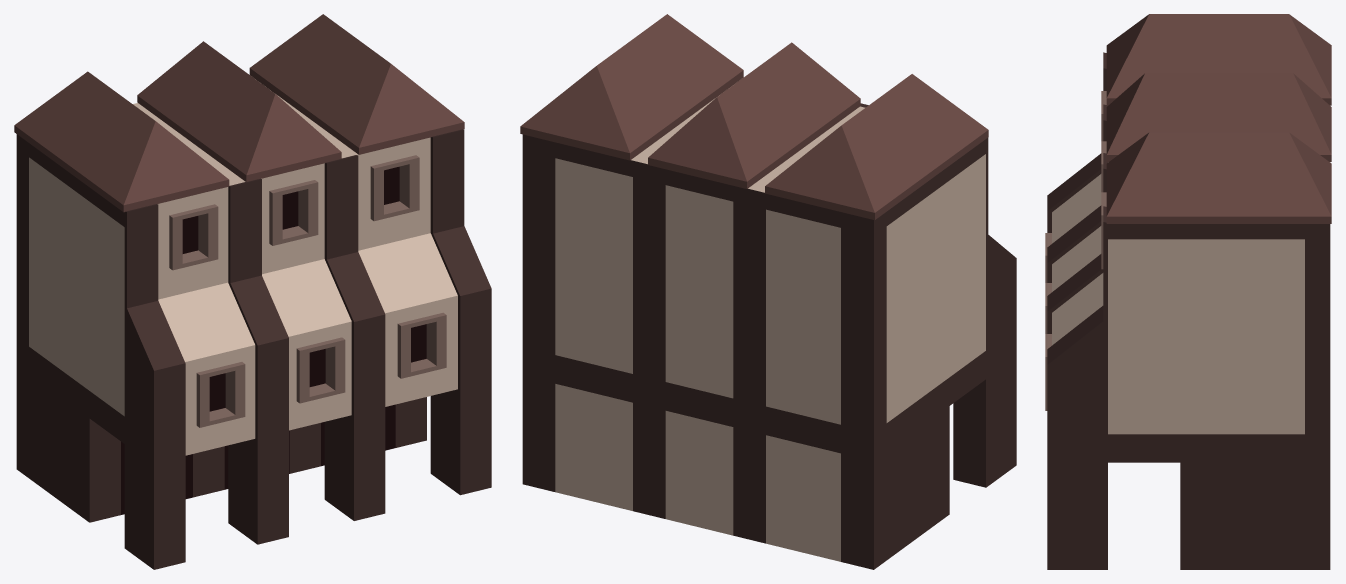
The model's file is building_03.fbx.
3 renders of one model, left to right at view 1: azimuth 30°, elevation 25°; view 2: azimuth 150°, elevation 25°; view 3: azimuth 270°, elevation 25°, orthographic. The views are drawn at different scales.
Parts seen in each view (by area): view 1: Cube.001; view 2: Cube.001; view 3: Cube.001.
Boxes of the visible parts, bbox=[...] form: Cube.001: bbox=[14, 14, 491, 569]; Cube.001: bbox=[520, 14, 1016, 569]; Cube.001: bbox=[1045, 14, 1331, 569].
Size of the model in its own units: 508 by 570 by 359.
